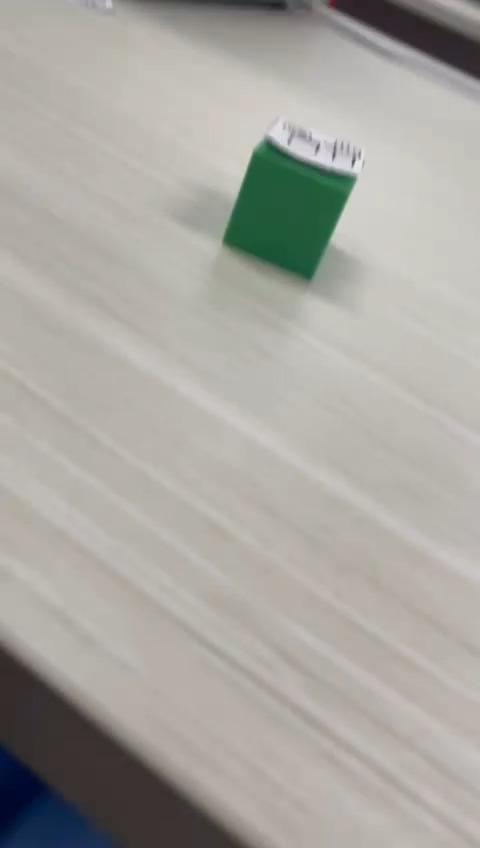Bandages: (222, 117, 363, 286)
